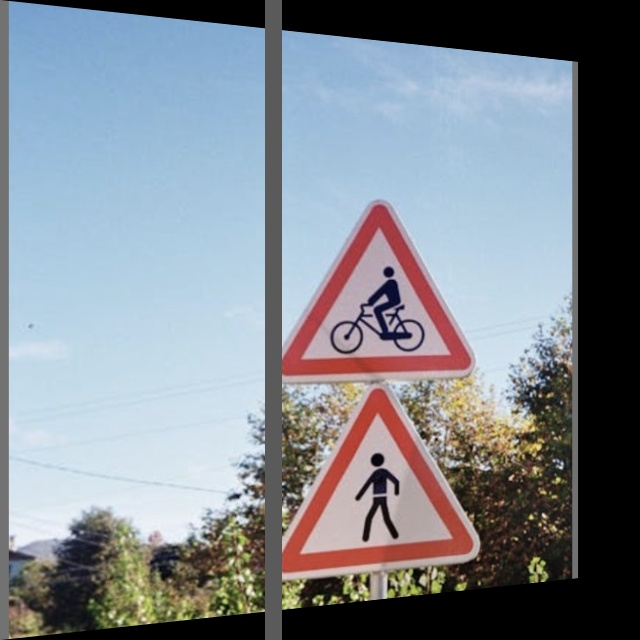Cycle_Crossing: (272, 195, 473, 379)
